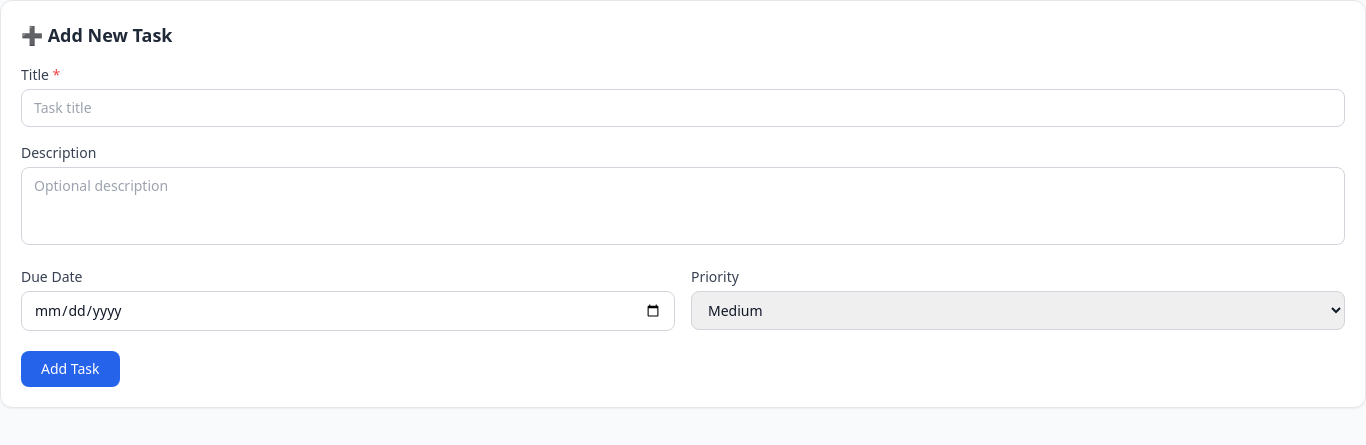
TaskForm › shows validation error when title is empty on submit
This screenshot has width=1366, height=445.
Click the button "Add Task" at (70, 369), box [21,351,120,387]
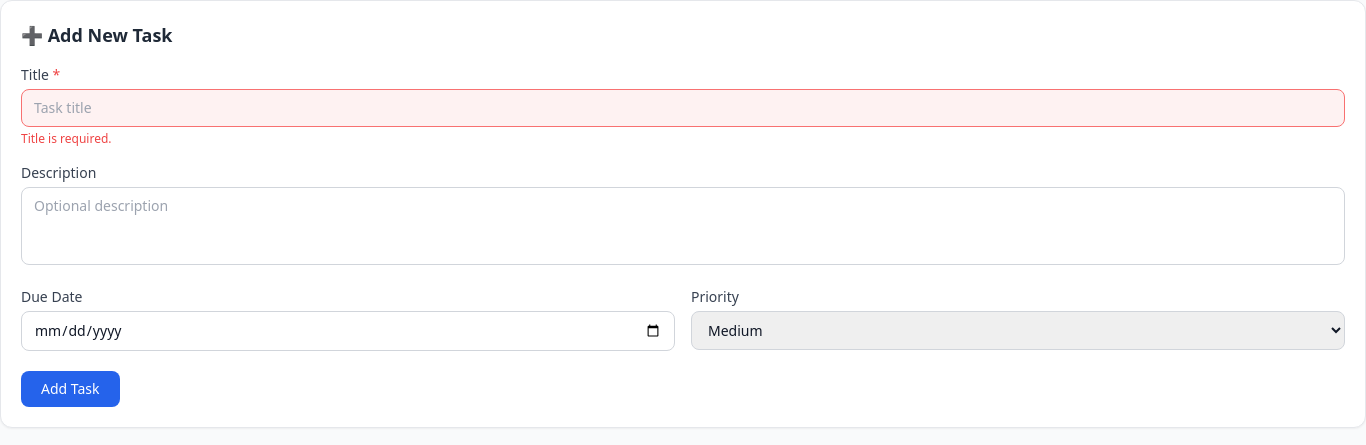
Check: the text "Title is required." is shown, box [21,130,112,147]
